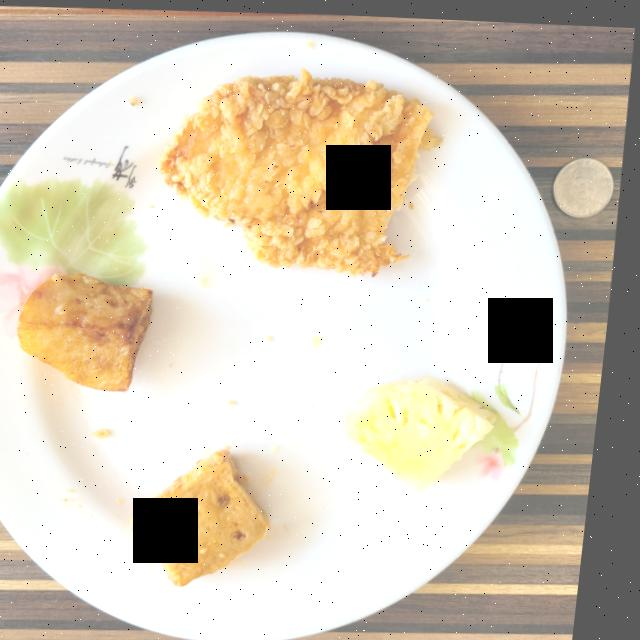coin: (555, 152, 615, 211)
creamy tofu: (141, 448, 281, 584)
fried chicken cutlet: (161, 67, 443, 272)
fried potato: (23, 272, 158, 390)
pineapple: (351, 371, 504, 487)
